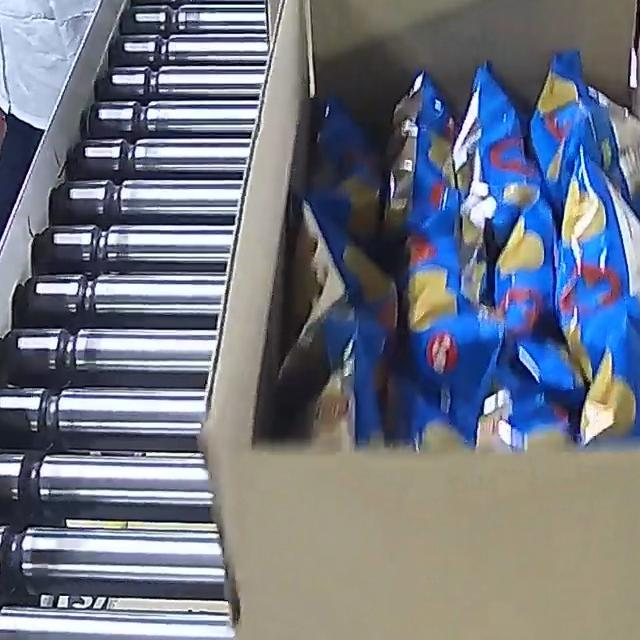paprika: (294, 50, 640, 453)
